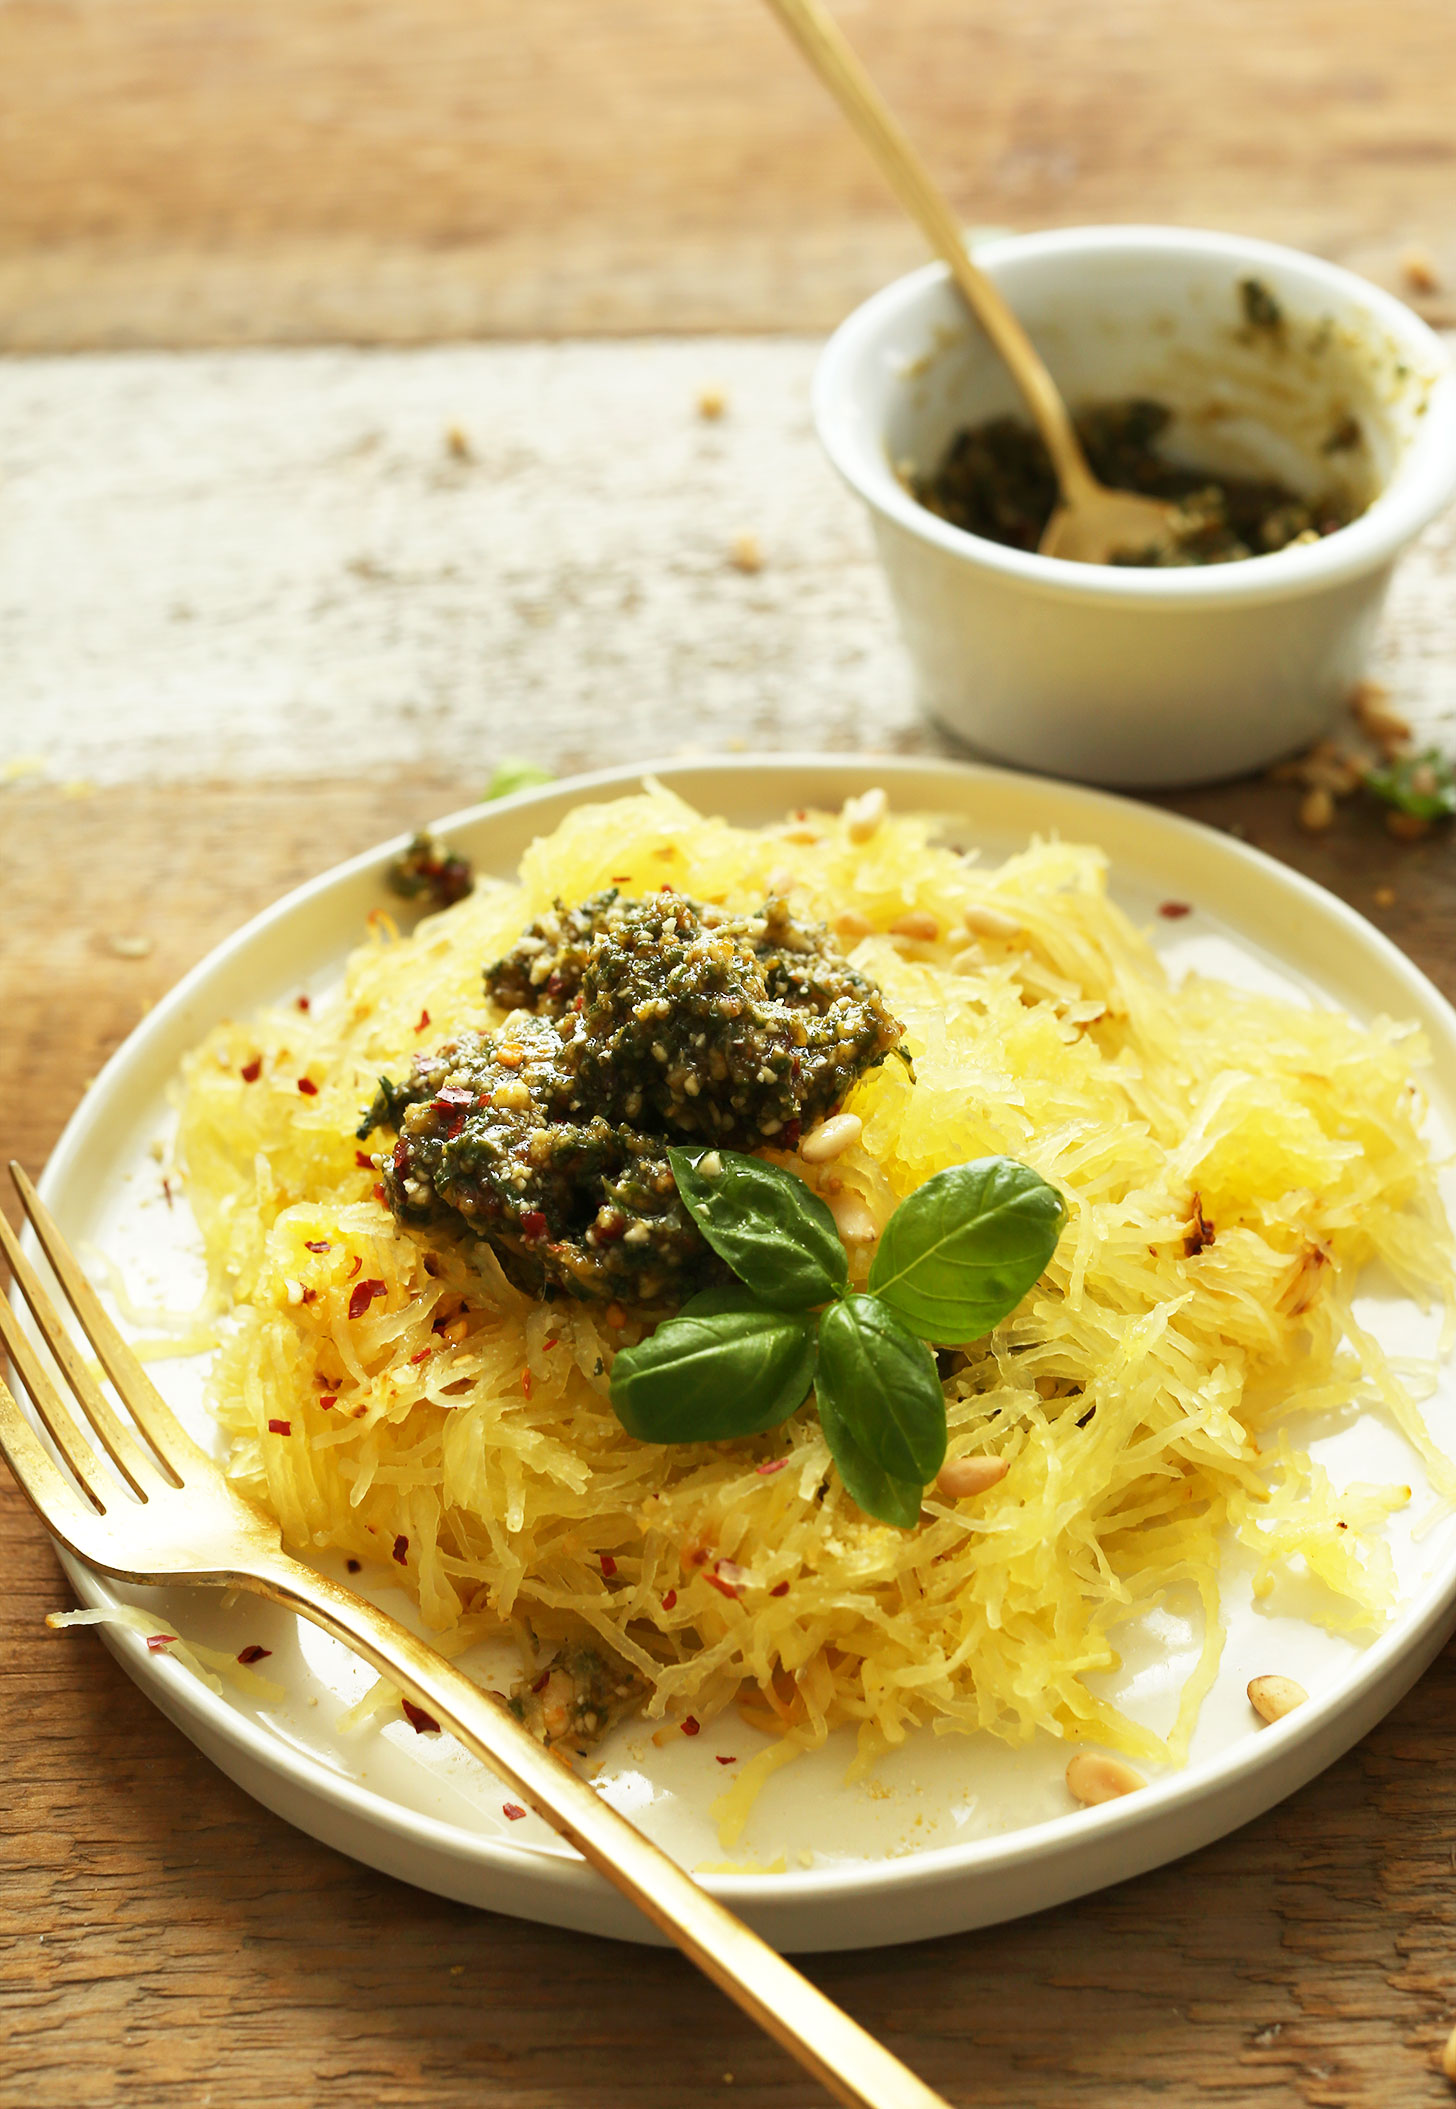plain spaghetti: (219, 822, 1358, 1707)
